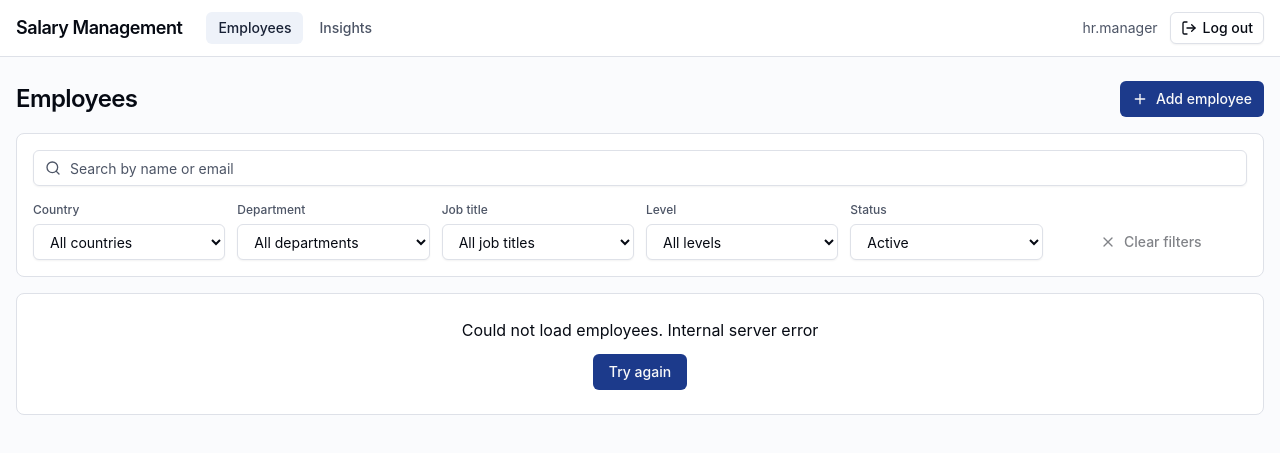
it: employee directory › rows › explains an error and can try again
expect the message shows "Could not load employees": met, box [462,320,668,340]
Click the button "Try again": (640, 372) [593,354,687,390]
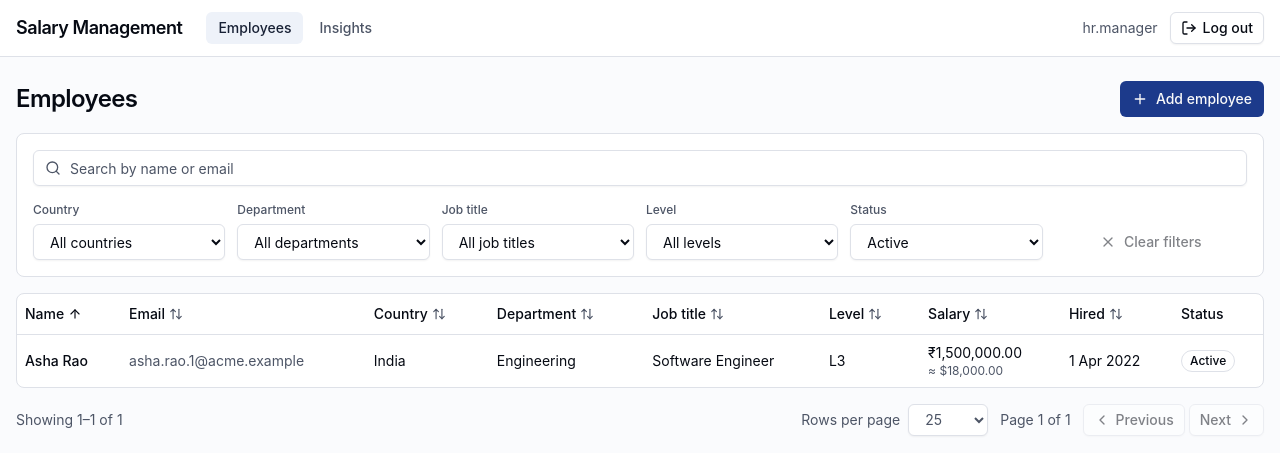
expect the link "Asha Rao" is shown: met, box [25,352,88,368]
